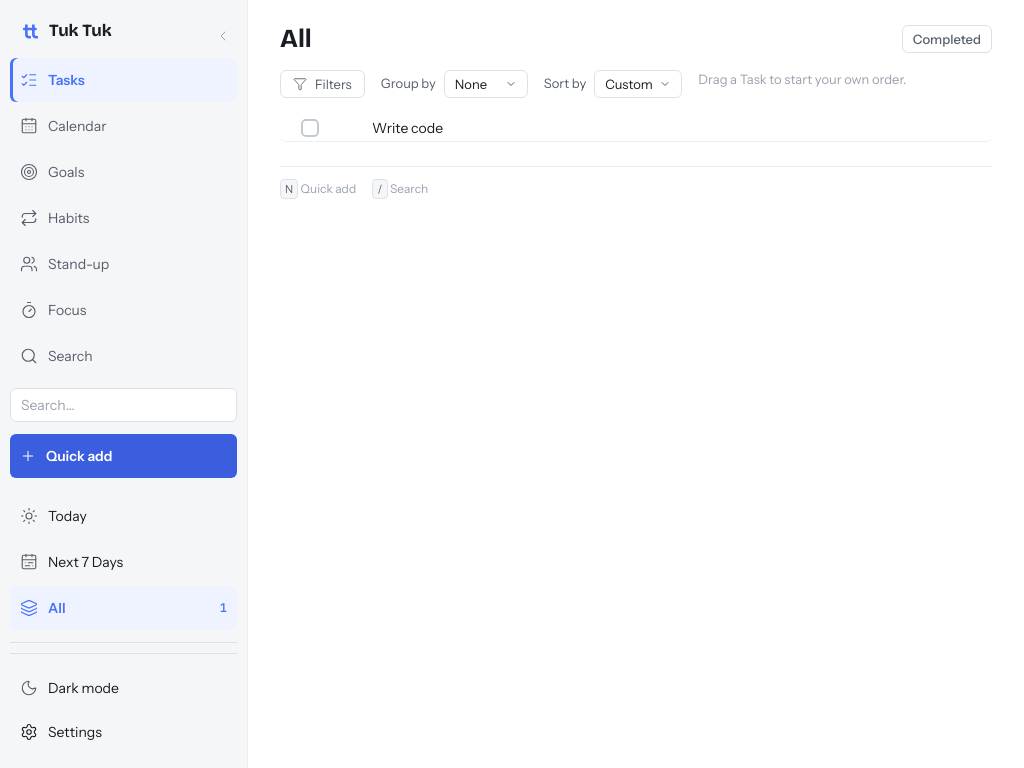
it: Task-sourced Key Results (issue #236) › shows the option labelled with the Goal and Key Result name
Click the button "Write code" at (490,128), box [372,119,608,137]
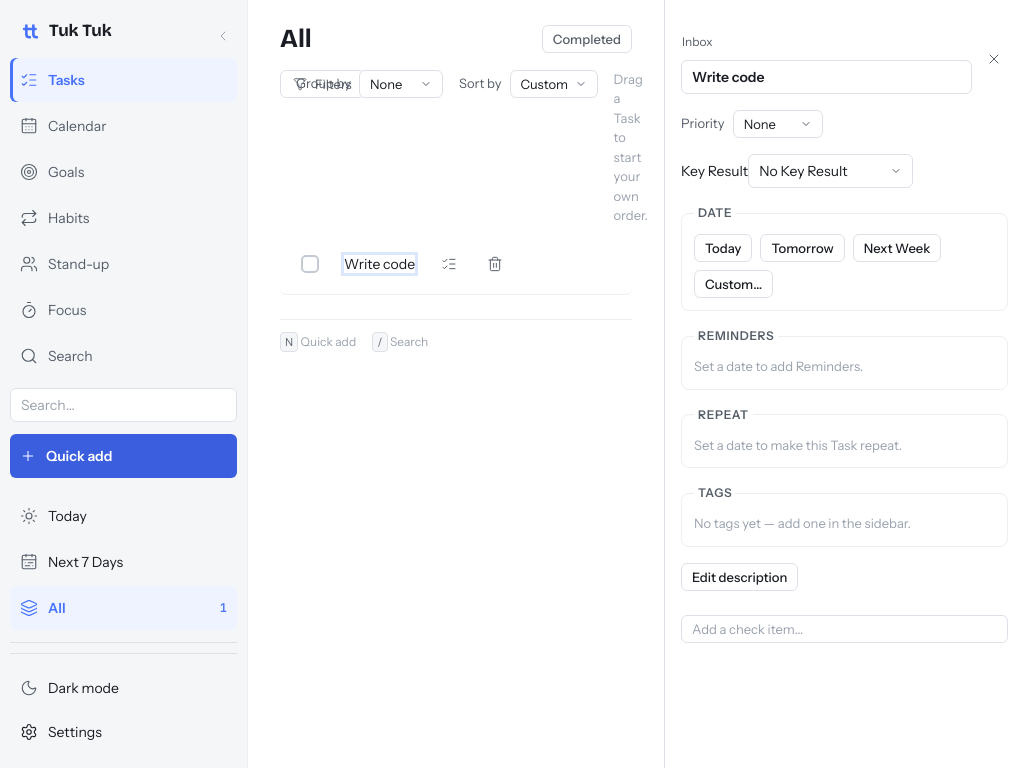
Expected: the element named "Task details" is shown, [664,0,1023,767]
